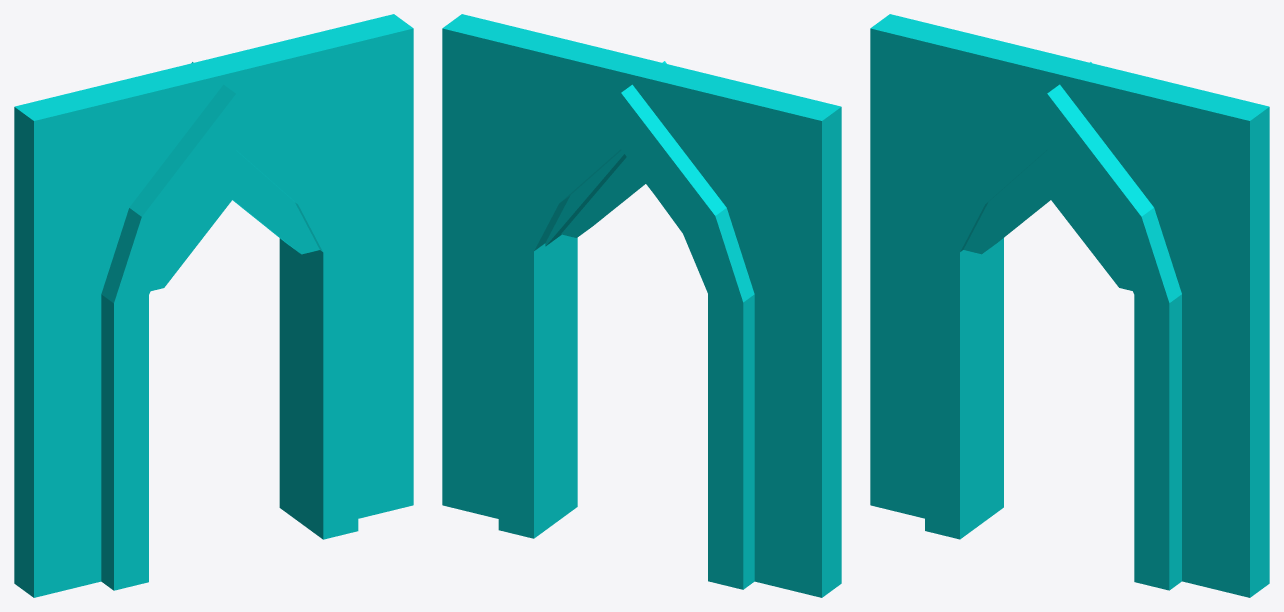
The model's file is SM_Bld_Wall_Door_01_Collision.fbx.
3 views of the same model, side by side, from view 1: azimuth 30°, elevation 25°; view 2: azimuth 150°, elevation 25°; view 3: azimuth 330°, elevation 25° (orthographic).
Parts seen in each view (by area): view 1: SM_Bld_Wall_Door_01_Collision; view 2: SM_Bld_Wall_Door_01_Collision; view 3: SM_Bld_Wall_Door_01_Collision.
Part boxes in pixels (x1,y1,x2,y2): SM_Bld_Wall_Door_01_Collision: [14, 14, 413, 597]; SM_Bld_Wall_Door_01_Collision: [442, 14, 841, 597]; SM_Bld_Wall_Door_01_Collision: [870, 14, 1269, 597].
Bounding box in the file's own units: 250 × 300 × 49.87.
